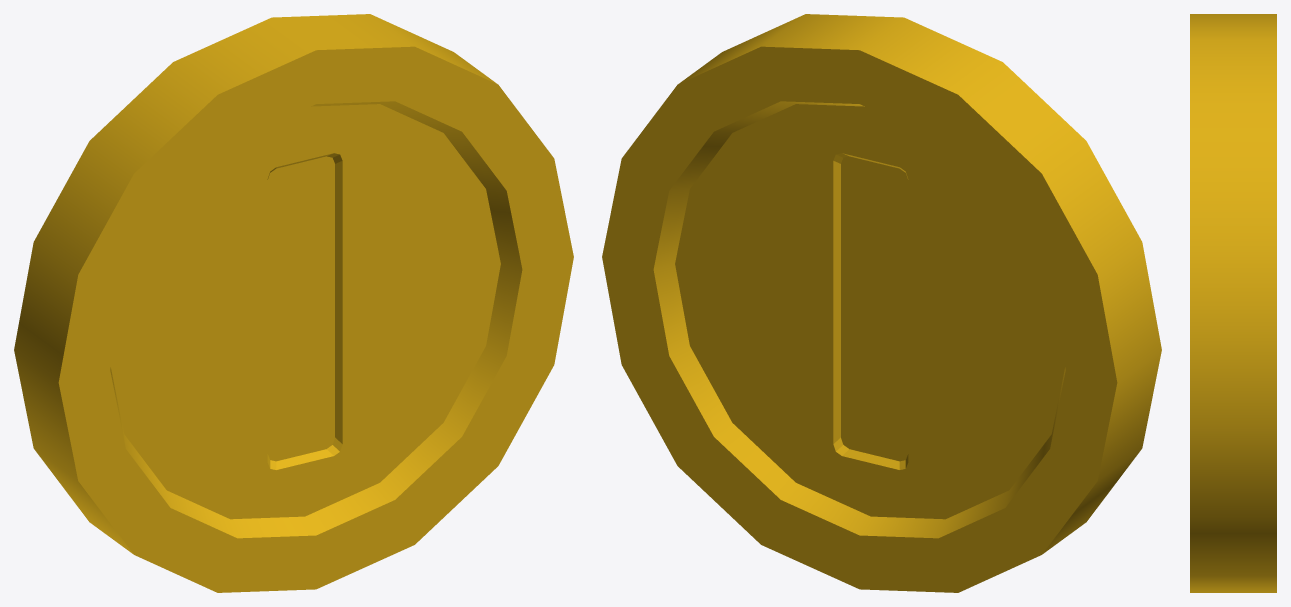
Rendered from pinball_coin.gltf.
3 views of the same model, side by side, from view 1: azimuth 30°, elevation 25°; view 2: azimuth 150°, elevation 25°; view 3: azimuth 270°, elevation 25° (orthographic). The views are drawn at different scales.
Parts seen in each view (by area): view 1: coin; view 2: coin; view 3: coin.
Part boxes in pixels (x1,y1,x2,y2): coin: [14, 14, 573, 592]; coin: [602, 14, 1161, 592]; coin: [1190, 14, 1276, 592].
Bounding box in the file's own units: 0.08 × 0.08 × 0.012.
